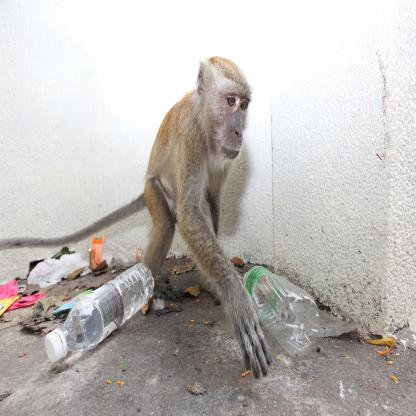monkey: (69, 53, 272, 379)
